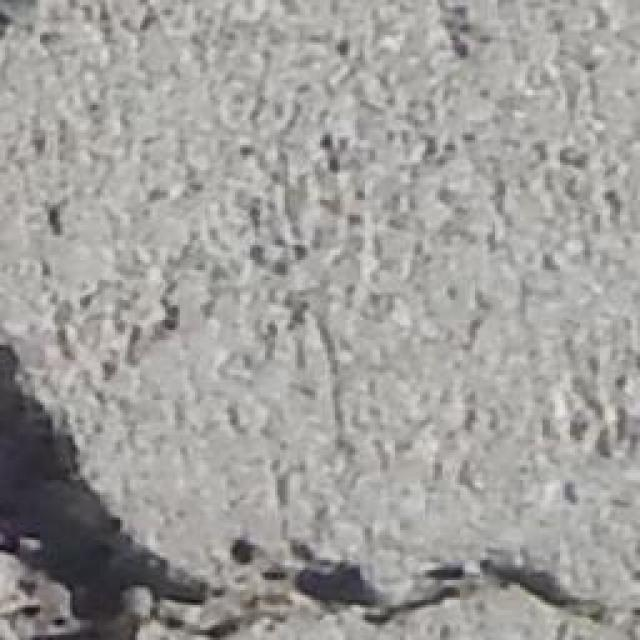concrete-crack: (0, 331, 637, 640)
